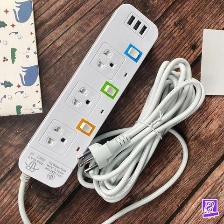three_eye_plug: (15, 0, 166, 192)
